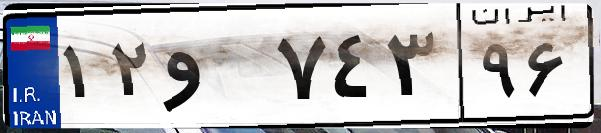1: (57, 26, 110, 100)
2: (110, 28, 158, 98)
3: (385, 28, 445, 110)
4: (330, 28, 385, 110)
6: (525, 38, 570, 115)
7: (270, 28, 330, 110)
9: (475, 38, 525, 113)
و: (158, 20, 270, 120)
